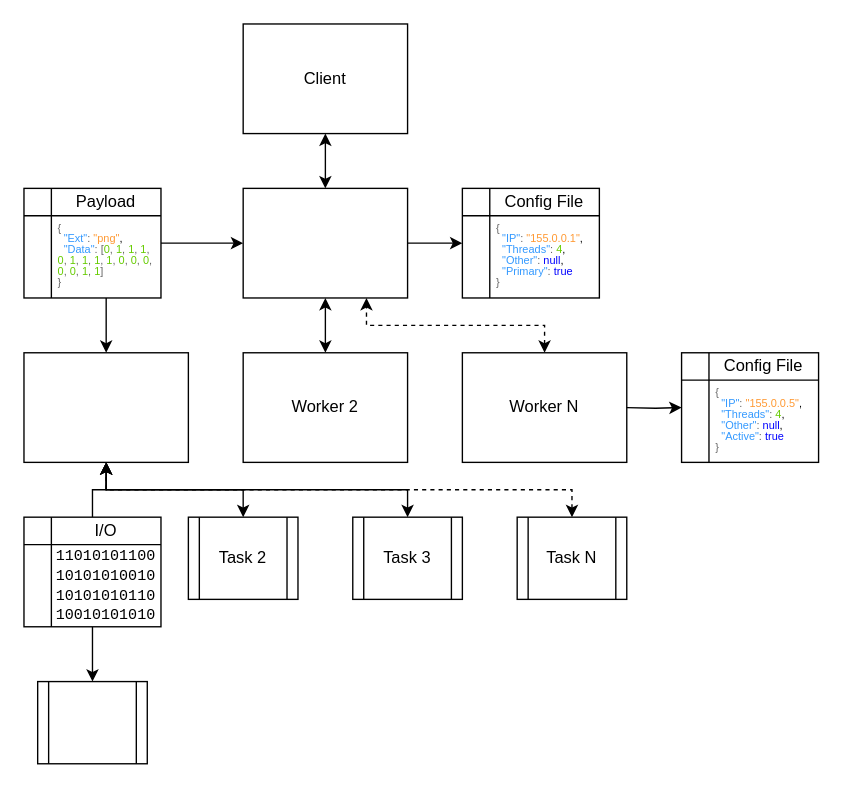
This 843x788 diagram has some shape labels left out. The centre of each missing label's shape, as x and y in pixels:
"Manager" goes at (x=325, y=242).
"Task 1" goes at (x=91, y=722).
"Worker 1" goes at (x=105, y=406).
